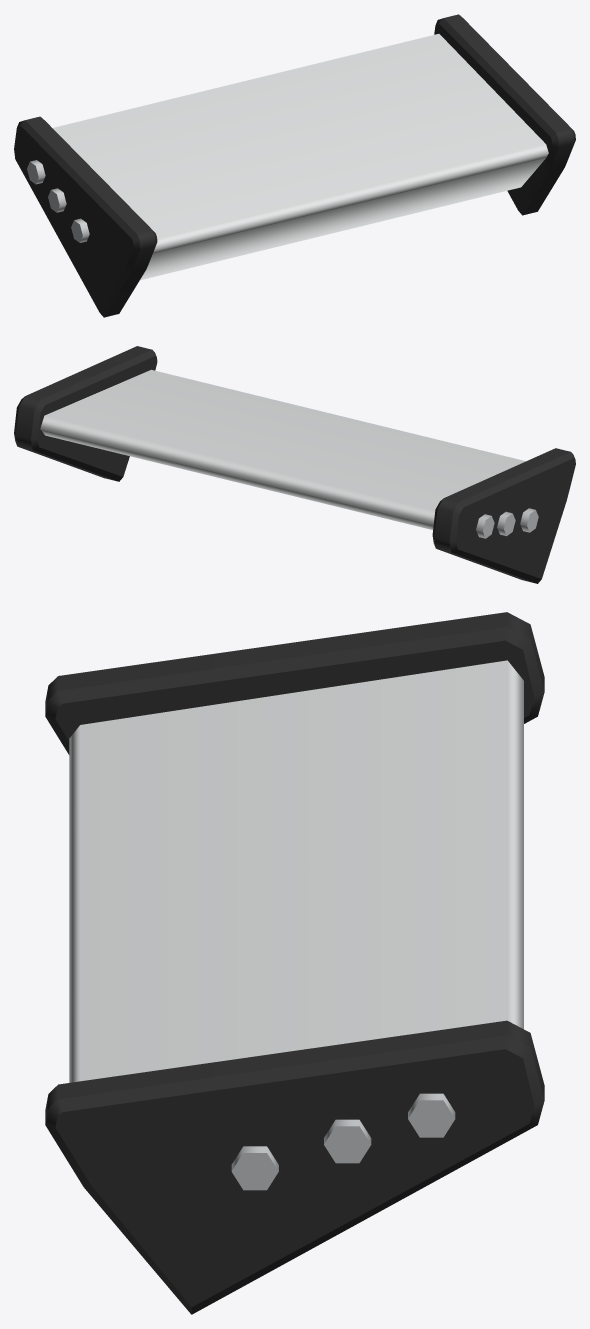
File: Car_04_Spoiler.fbx
The picture shows the model from 3 angles, top to bottom: view 1: azimuth 30°, elevation 25°; view 2: azimuth 150°, elevation 25°; view 3: azimuth 270°, elevation 25°; orthographic projection. The views are drawn at different scales.
Parts seen in each view (by area): view 1: Car_04_Spoiler; view 2: Car_04_Spoiler; view 3: Car_04_Spoiler.
Boxes of the visible parts, bbox=[...] form: Car_04_Spoiler: bbox=[14, 14, 575, 317]; Car_04_Spoiler: bbox=[14, 346, 575, 583]; Car_04_Spoiler: bbox=[45, 612, 544, 1314].
Bounding box in the file's own units: 153 × 72.6 × 44.82.
